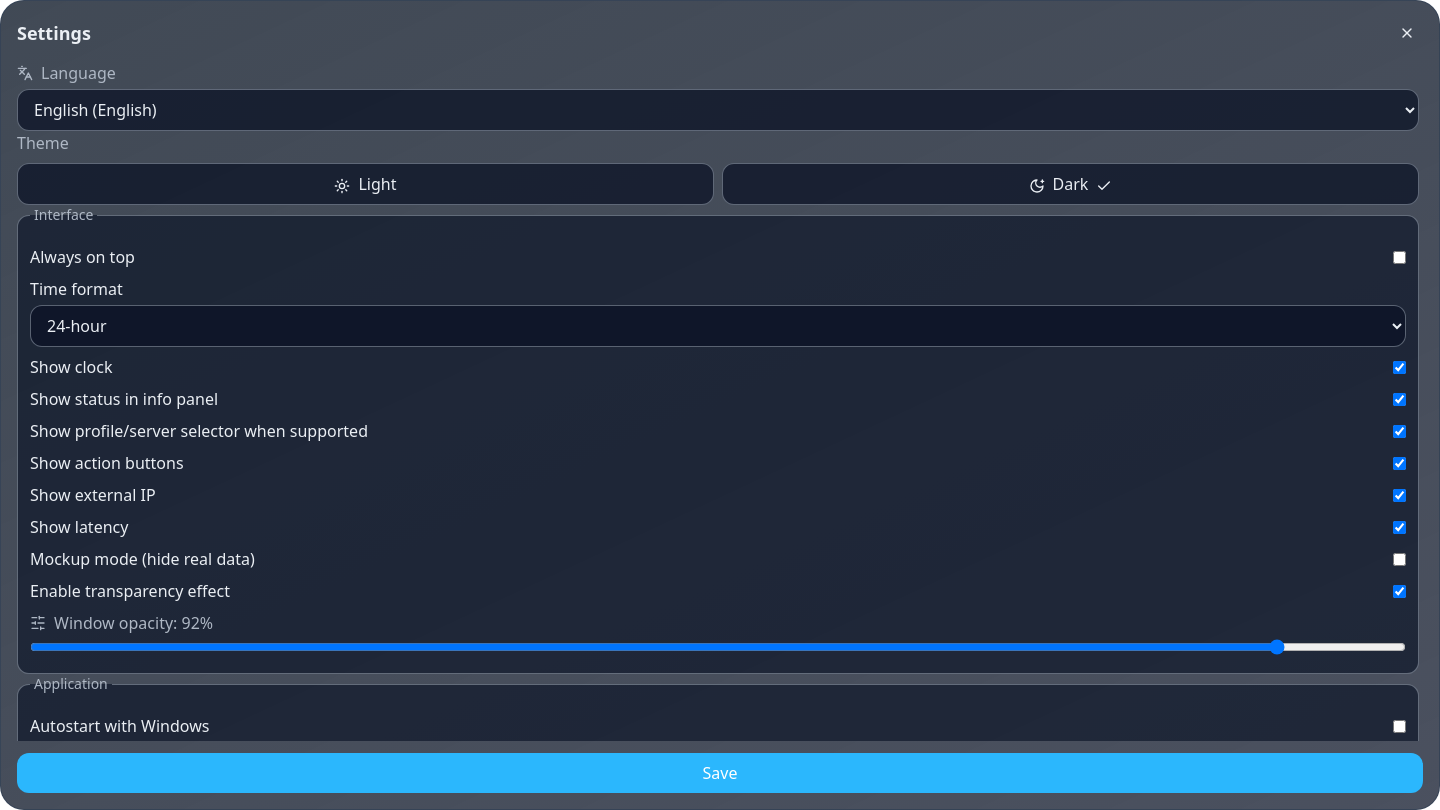
SettingsWindow › warns before native close with unsaved draft settings
Expected: the heading "Settings" is shown, [17,19,91,47]
Click the checkbox labelled "Autostart with Windows".
click(1400, 726)  # box [1393,720,1406,732]
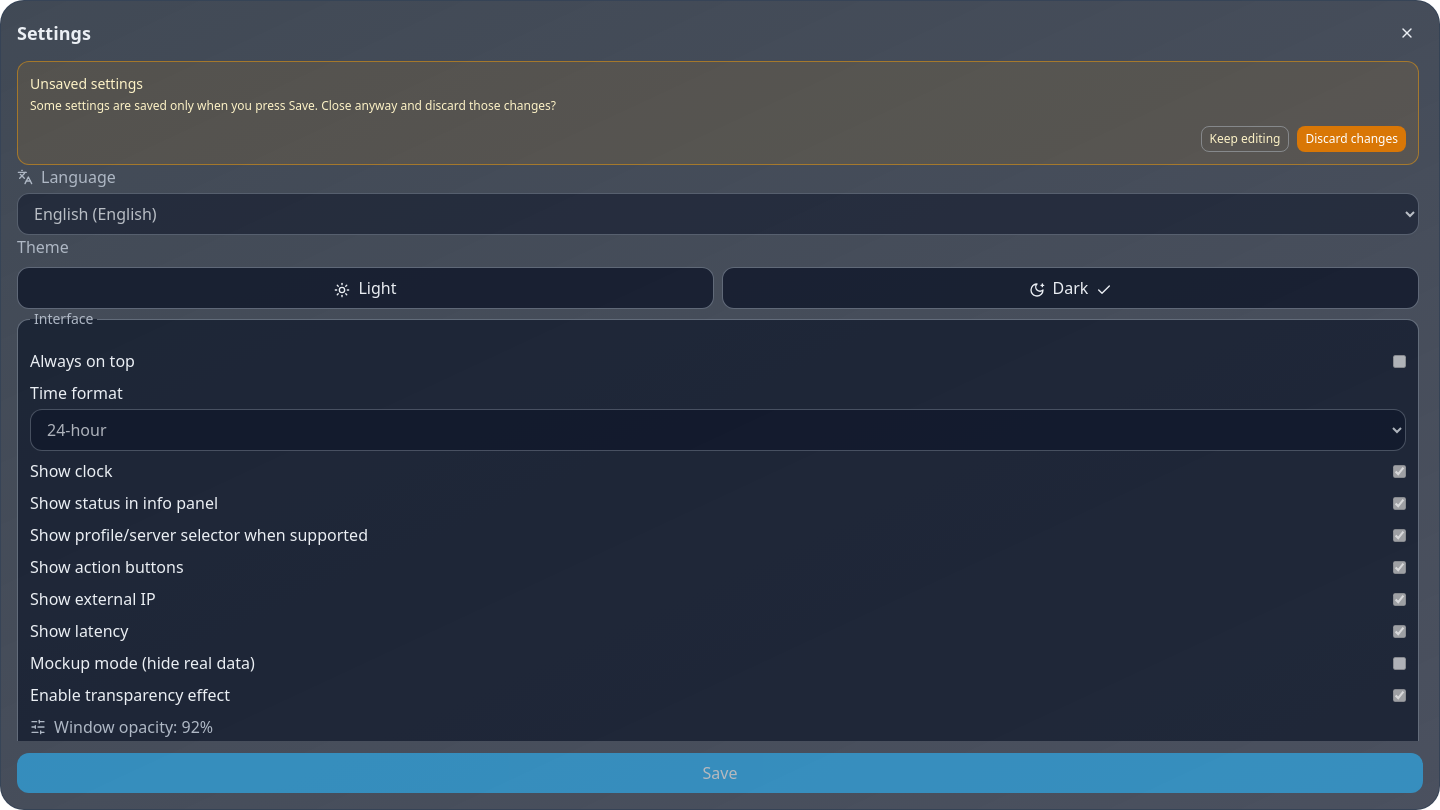
Expected: the text "Unsaved settings" is shown, [30,74,143,93]
